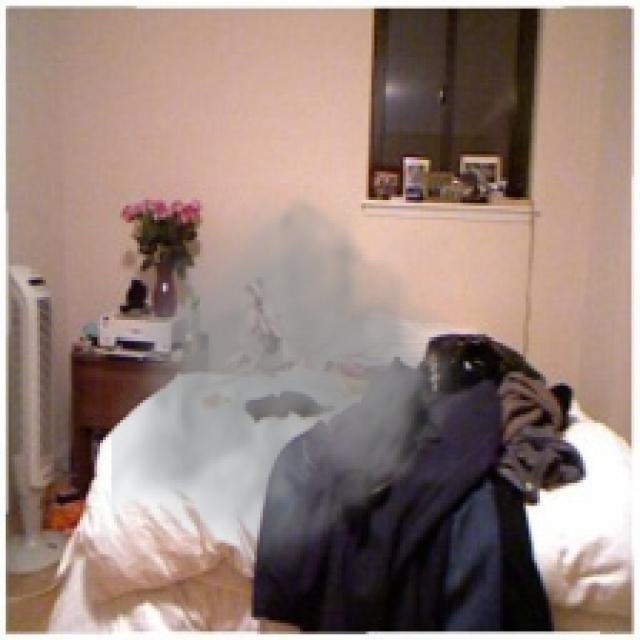smoke: (112, 177, 497, 589)
